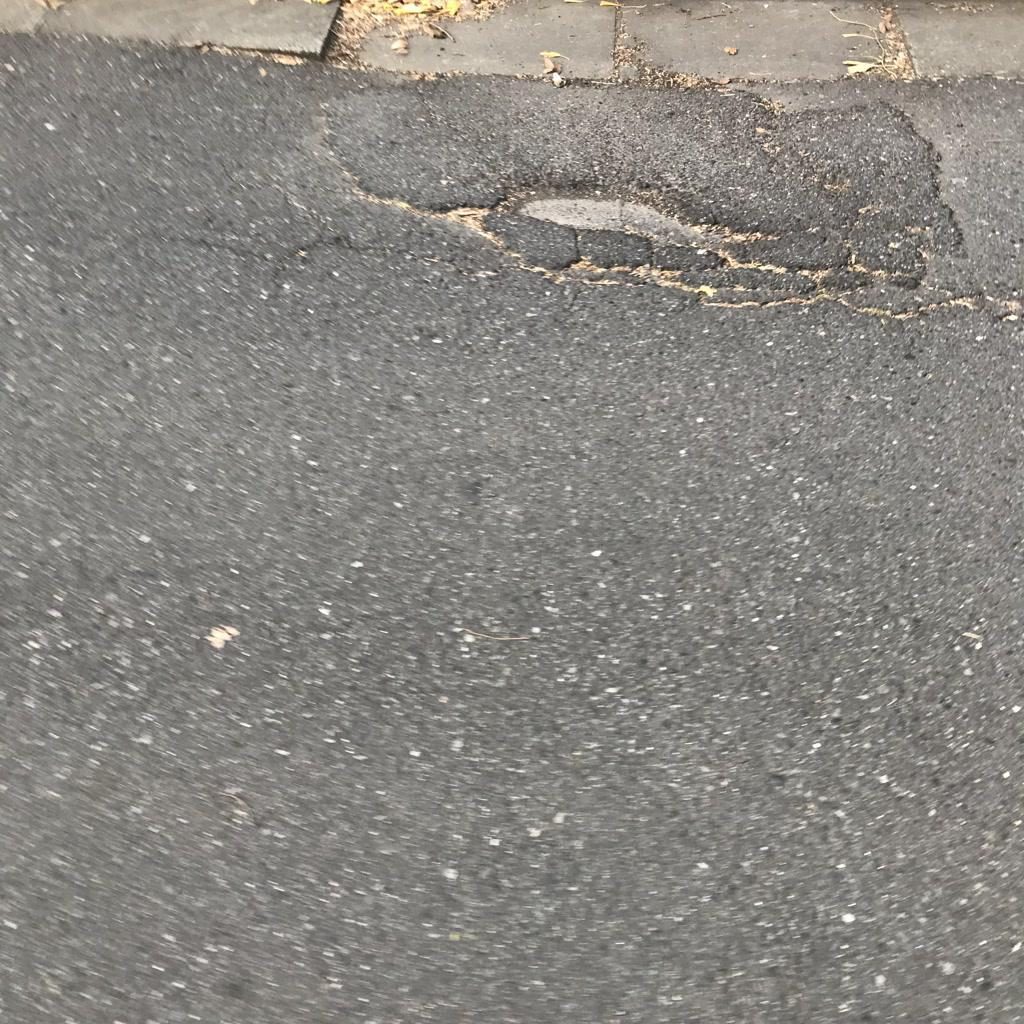D40: (501, 158, 768, 283)
